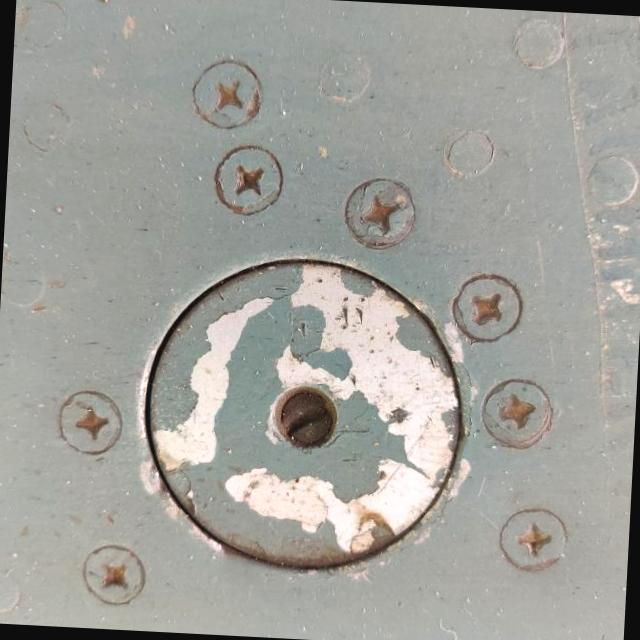paint-off: (42, 110, 413, 499)
